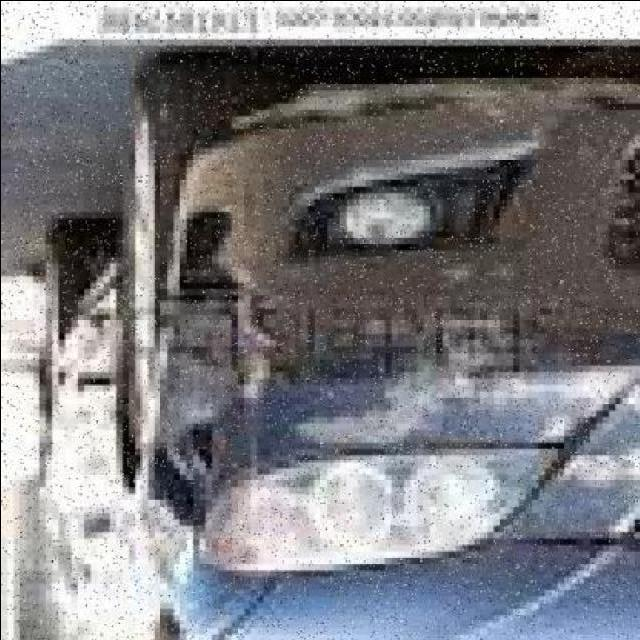front-bumper-dent: (140, 102, 640, 488)
